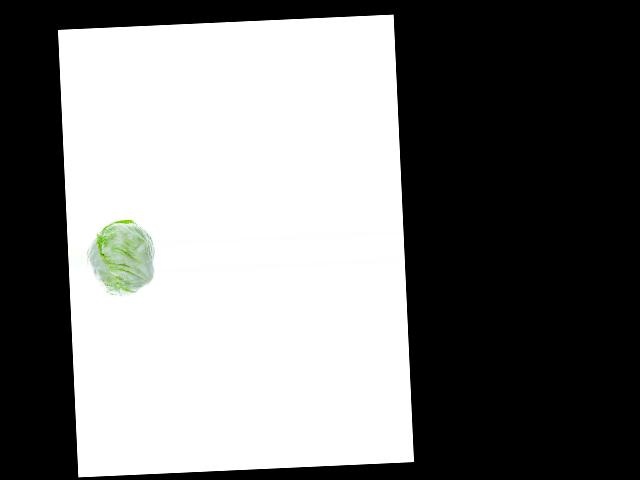lettuce: (86, 220, 153, 296)
